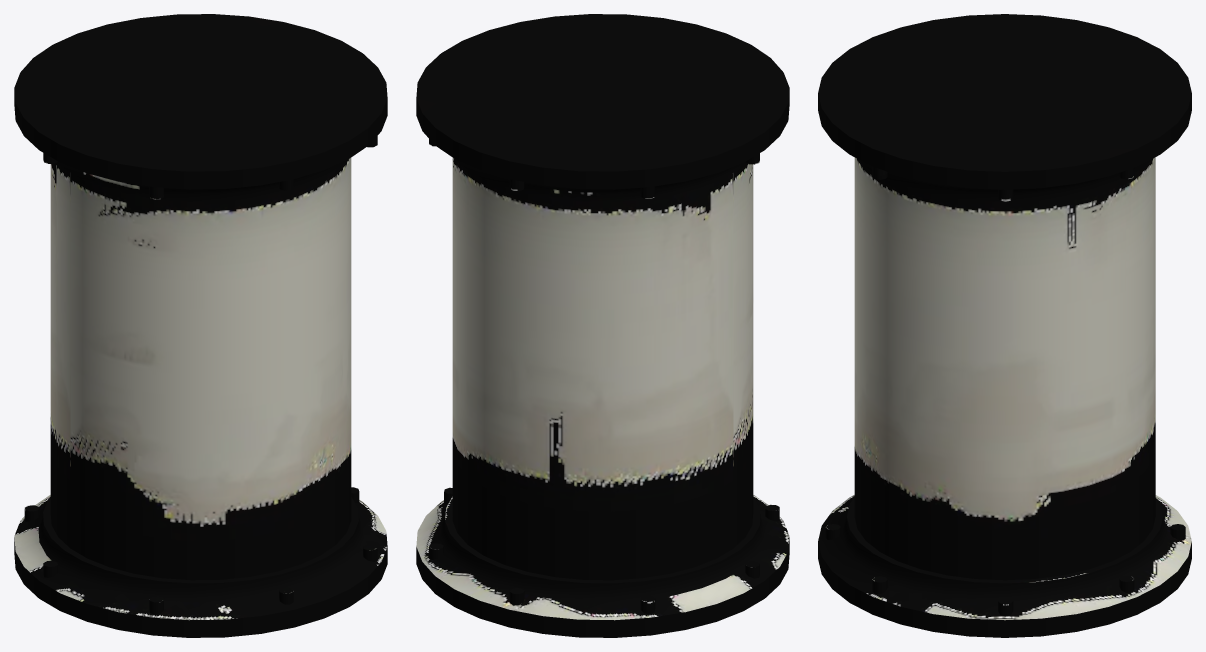
3 views of the same model, side by side, from view 1: azimuth 30°, elevation 25°; view 2: azimuth 150°, elevation 25°; view 3: azimuth 270°, elevation 25° (orthographic).
Parts seen in each view (by area): view 1: body0_model0_lod0_mesh0; view 2: body0_model0_lod0_mesh0; view 3: body0_model0_lod0_mesh0.
Part boxes in pixels (x1,y1,x2,y2): body0_model0_lod0_mesh0: (14, 14, 387, 637); body0_model0_lod0_mesh0: (416, 14, 789, 637); body0_model0_lod0_mesh0: (818, 14, 1191, 637).
Bounding box in the file's own units: 128 × 176 × 128.
Materials: 1 (1 with a texture image).
